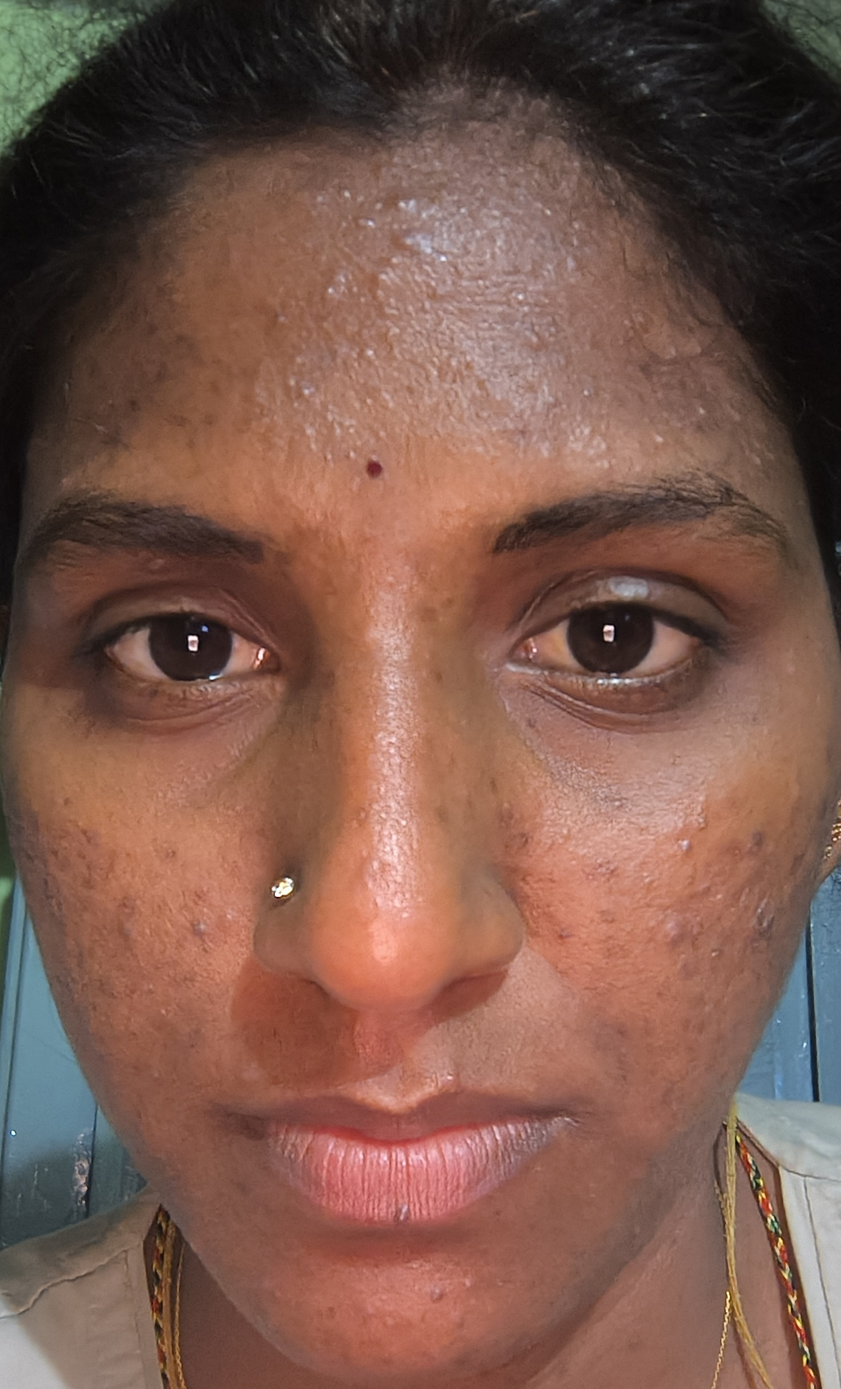closed_comedone: (322, 174, 389, 238), (547, 240, 599, 295), (675, 394, 737, 438), (663, 816, 709, 875), (281, 353, 322, 401)
papule: (657, 903, 714, 974), (395, 213, 450, 282), (180, 901, 224, 962), (315, 254, 354, 316)
